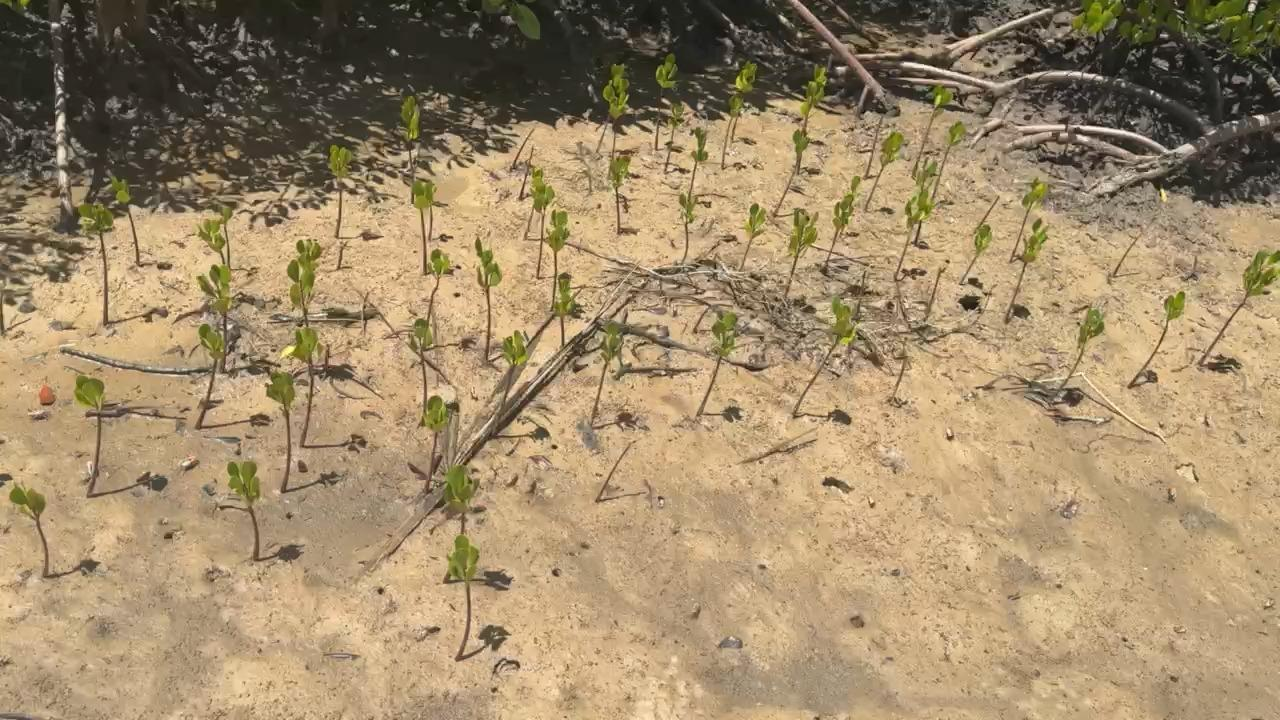Tree: (790, 293, 856, 417), (280, 325, 319, 447), (1004, 218, 1048, 321), (77, 203, 113, 325), (696, 309, 737, 416), (446, 534, 480, 661), (1226, 249, 1280, 325), (8, 480, 49, 577), (912, 84, 953, 179), (492, 329, 528, 436), (196, 262, 231, 372), (473, 236, 503, 360), (74, 375, 105, 493), (589, 321, 623, 425), (266, 371, 295, 492), (194, 323, 226, 430), (226, 461, 260, 560), (863, 130, 904, 211), (797, 64, 826, 174), (1007, 177, 1044, 262), (774, 129, 810, 216), (596, 63, 629, 153), (543, 209, 570, 313), (897, 190, 931, 271), (110, 176, 140, 263), (1112, 215, 1156, 274), (931, 120, 964, 198), (443, 465, 480, 534), (1068, 309, 1105, 378), (530, 177, 555, 279), (422, 396, 448, 494), (913, 156, 939, 245), (730, 61, 758, 142), (655, 54, 678, 149), (787, 207, 819, 275), (595, 443, 632, 501), (959, 224, 993, 284), (329, 144, 351, 236), (287, 258, 315, 327), (1154, 290, 1185, 349), (553, 273, 576, 346), (721, 93, 743, 169), (827, 197, 852, 261), (411, 181, 428, 275), (427, 248, 449, 320), (522, 169, 544, 241), (413, 318, 432, 398), (609, 155, 628, 234), (400, 96, 420, 171), (742, 203, 768, 258), (664, 104, 684, 173), (608, 92, 629, 156), (863, 114, 884, 178), (196, 220, 225, 264), (840, 175, 861, 235), (690, 126, 709, 191), (678, 192, 699, 249), (216, 207, 232, 266), (422, 178, 437, 240), (294, 239, 323, 270), (512, 128, 535, 167), (519, 145, 535, 200), (974, 195, 1000, 225), (930, 266, 946, 299)
